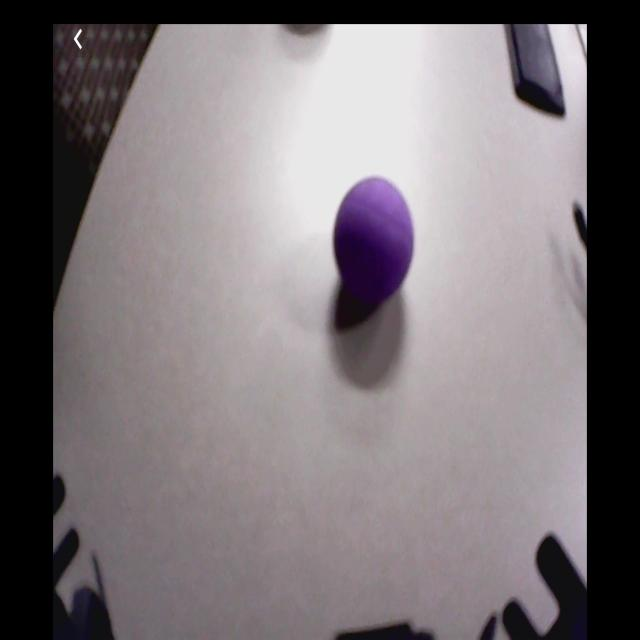ball: (334, 176, 416, 306)
